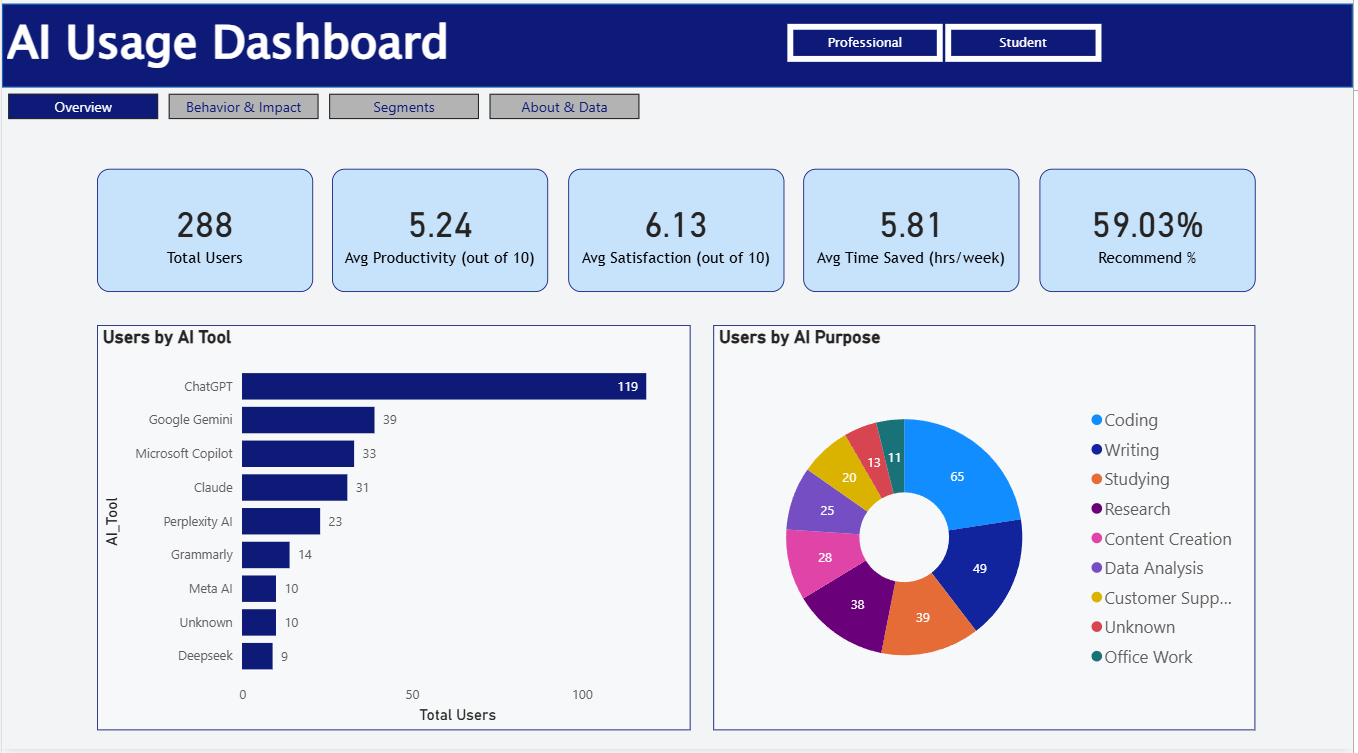

What the dashboard file says about the page in this screenshot:
{"tool":"powerbi","page":{"name":"Overview","canvas":[1280,720],"ordinal":0},"visuals":[{"type":"shape","box":[0,13,1279.7,79.4],"z":0},{"type":"textbox","box":[0,13.2,503.4,79.1],"z":1000},{"type":"clusteredBarChart","title":"Users by AI Tool","fields":{"Category":["AI_Usage.AI_Tool"],"Y":["_Measures.Total Users"]},"box":[89.5,317.4,562.7,383.8],"z":2000},{"type":"card","fields":{"Values":["_Measures.Avg Time Saved"]},"box":[759.3,168.8,204.9,116.9],"z":3000},{"type":"donutChart","title":"Users by AI Purpose","fields":{"Category":["AI_Usage.AI_Purpose"],"Y":["_Measures.Total Users"]},"box":[673.8,317.4,513.6,383.8],"z":4000},{"type":"card","fields":{"Values":["_Measures.Avg Satisfaction"]},"box":[536,168.8,204.9,116.9],"z":5000},{"type":"card","fields":{"Values":["_Measures.Recommend %"]},"box":[982.5,168.8,204.9,116.9],"z":6000},{"type":"card","fields":{"Values":["_Measures.Avg Productivity"]},"box":[312.7,168.8,204.9,116.9],"z":7000},{"type":"card","fields":{"Values":["_Measures.Total Users"]},"box":[89.5,168.8,204.9,116.9],"z":8000},{"type":"slicer","title":"User Type","fields":{"Values":["AI_Usage.User_Type"]},"box":[718,24.5,347.7,50.5],"z":9000},{"type":"pageNavigator","box":[5.8,98.1,600.2,24.5],"z":11000}]}

Visuals, with their boxes in screenshot pixels (x1, y1, x2, y2), scaled from the page's 1280x720 canvas onto the 1358x753 screenshot:
shape: left=0, top=14, right=1357, bottom=97
textbox: left=0, top=14, right=534, bottom=97
"Users by AI Tool" clusteredBarChart: left=95, top=332, right=692, bottom=733
card - _Measures.Avg Time Saved: left=806, top=177, right=1023, bottom=299
"Users by AI Purpose" donutChart: left=715, top=332, right=1260, bottom=733
card - _Measures.Avg Satisfaction: left=569, top=177, right=786, bottom=299
card - _Measures.Recommend %: left=1042, top=177, right=1260, bottom=299
card - _Measures.Avg Productivity: left=332, top=177, right=549, bottom=299
card - _Measures.Total Users: left=95, top=177, right=312, bottom=299
"User Type" slicer: left=762, top=26, right=1131, bottom=78
pageNavigator: left=6, top=103, right=643, bottom=128
